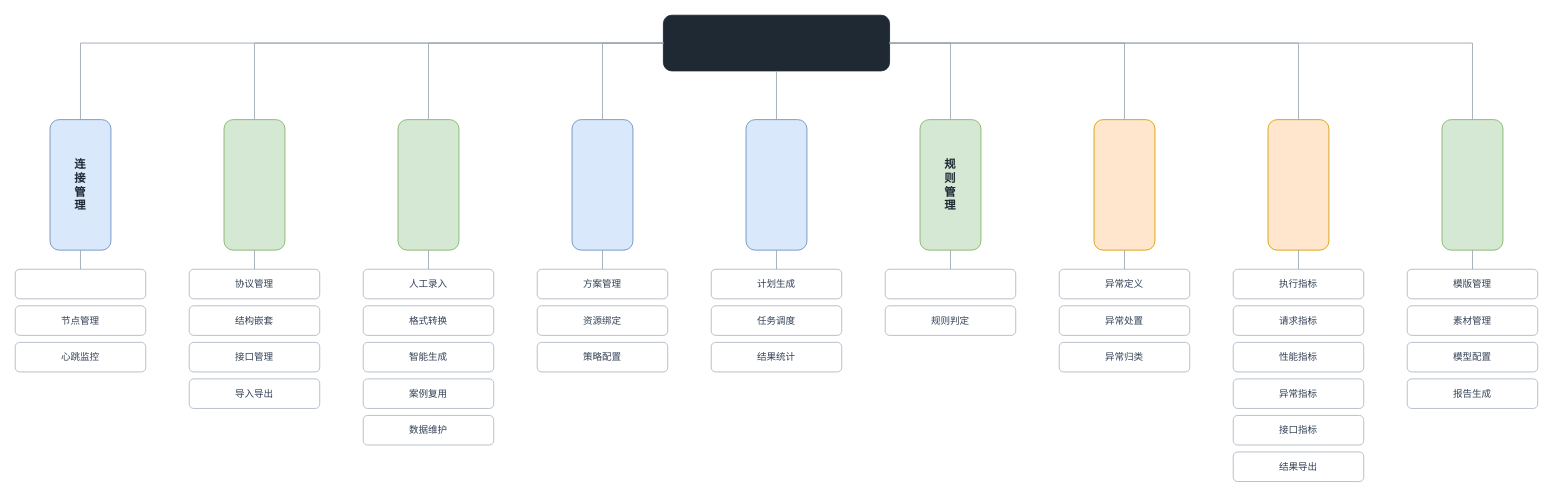
This 1553x497 diagram has some shape labels left out. The centre of each missing label's shape, as x and y in pixels:
便携式智能联试工具 （网口接入被测系统）: (x=776, y=42)
参数配置: (x=80, y=283)
异 常 管 理: (x=1124, y=184)
接 口 协 议 管 理: (x=254, y=184)
测 试 任 务 管 理: (x=602, y=184)
测 试 执 行 编 排: (x=776, y=184)
测 试 数 据 管 理: (x=428, y=184)
统 计 与 可 视 化: (x=1298, y=184)
联 试 报 告 管 理: (x=1472, y=184)
规则制定: (x=950, y=283)
